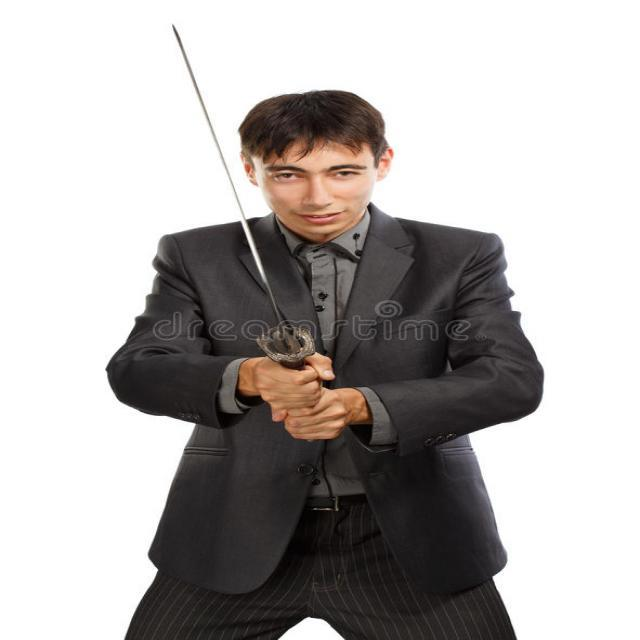long sword: (160, 16, 415, 444)
